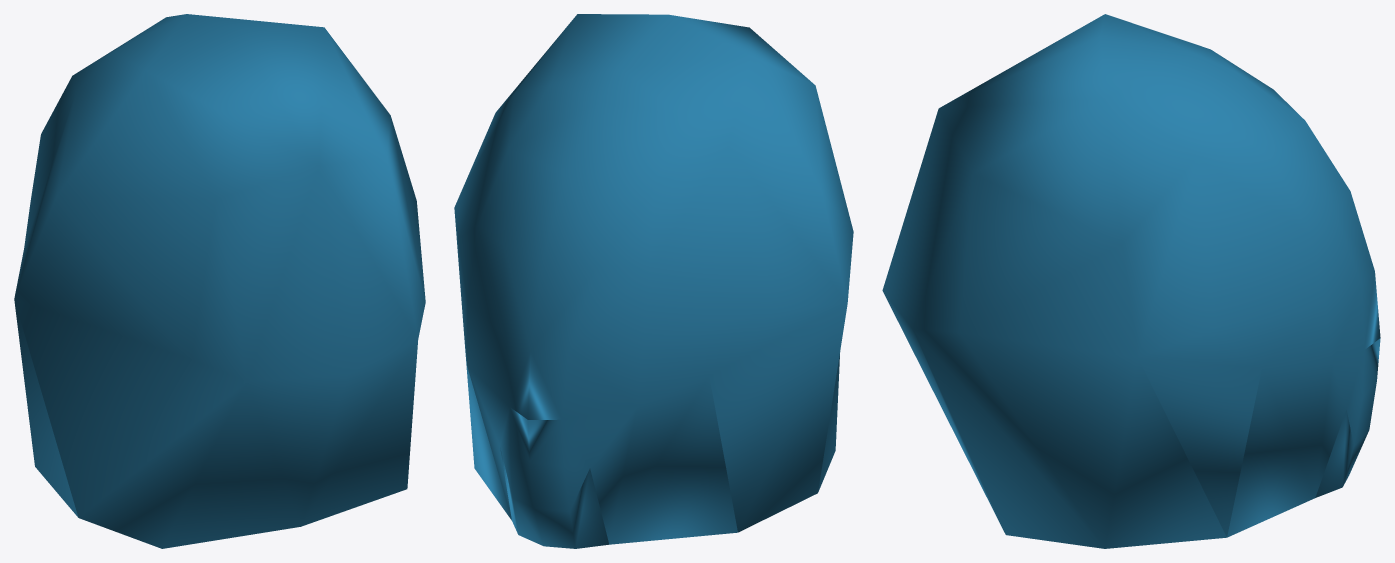
Rendered from AvaHelm_Ground.fbx.
The picture shows the model from 3 angles, left to right: view 1: azimuth 30°, elevation 25°; view 2: azimuth 150°, elevation 25°; view 3: azimuth 270°, elevation 25°; orthographic projection. The views are drawn at different scales.
Visible parts, largest first — view 1: Headpiece.002; view 2: Headpiece.002; view 3: Headpiece.002.
Part boxes in pixels (x1,y1,x2,y2): Headpiece.002: (14, 14, 425, 548); Headpiece.002: (454, 14, 853, 548); Headpiece.002: (882, 14, 1380, 548).
Size of the model in its own units: 0.1698 by 0.1788 by 0.1544.
